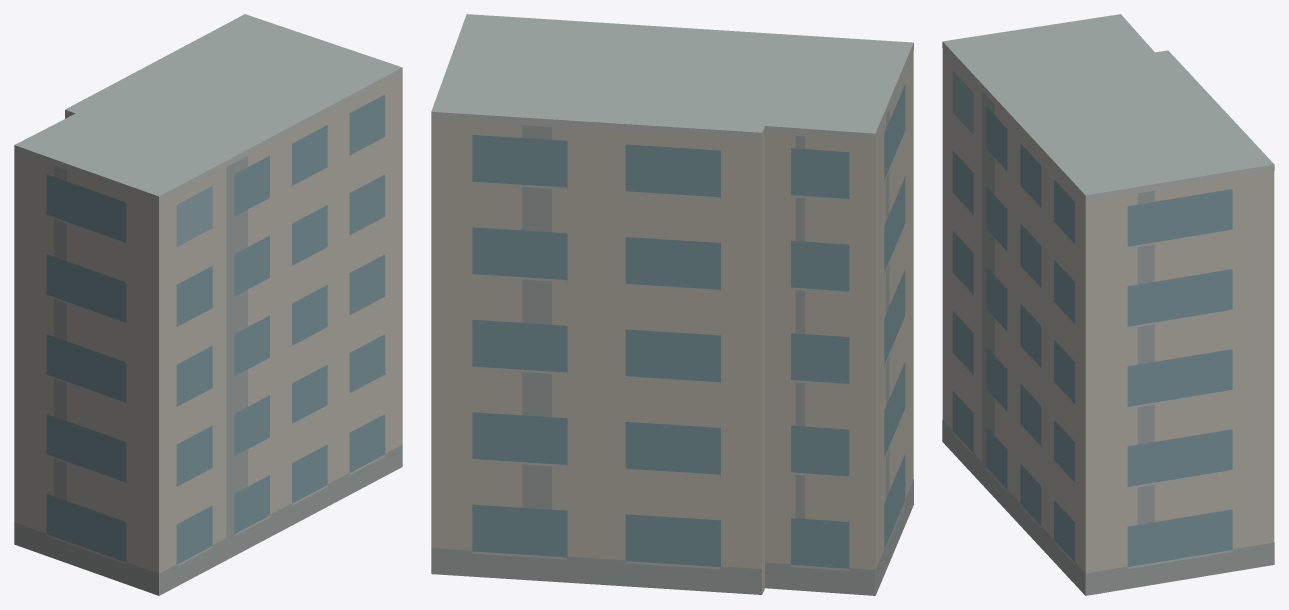
The model's file is survey-upis-33034498.glb.
The picture shows the model from 3 angles, left to right: view 1: azimuth 30°, elevation 25°; view 2: azimuth 150°, elevation 25°; view 3: azimuth 270°, elevation 25°; orthographic projection. The views are drawn at different scales.
Parts seen in each view (by area): view 1: survey-upis-33034498.tmp; view 2: survey-upis-33034498.tmp; view 3: survey-upis-33034498.tmp.
Boxes of the visible parts, x1,y1,x2,y2 form: survey-upis-33034498.tmp: (14,14,402,595); survey-upis-33034498.tmp: (431,14,913,595); survey-upis-33034498.tmp: (942,14,1274,595).
Size of the model in its own units: 14.2 by 14.6 by 10.98.
